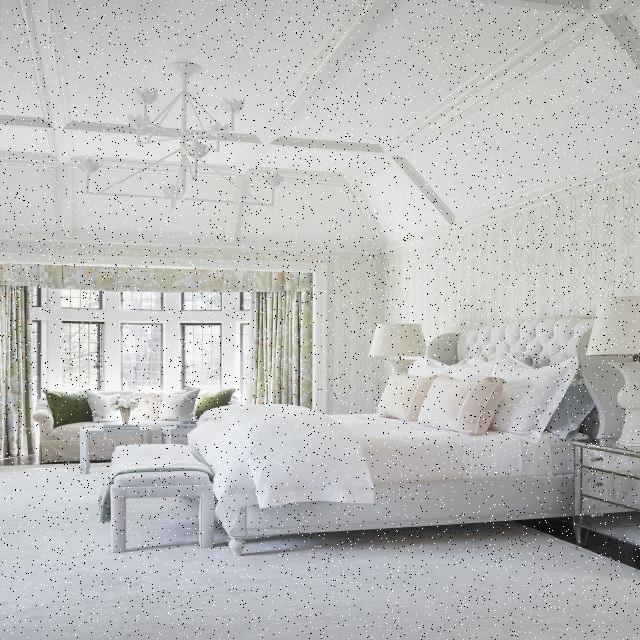bed: (193, 350, 601, 551)
